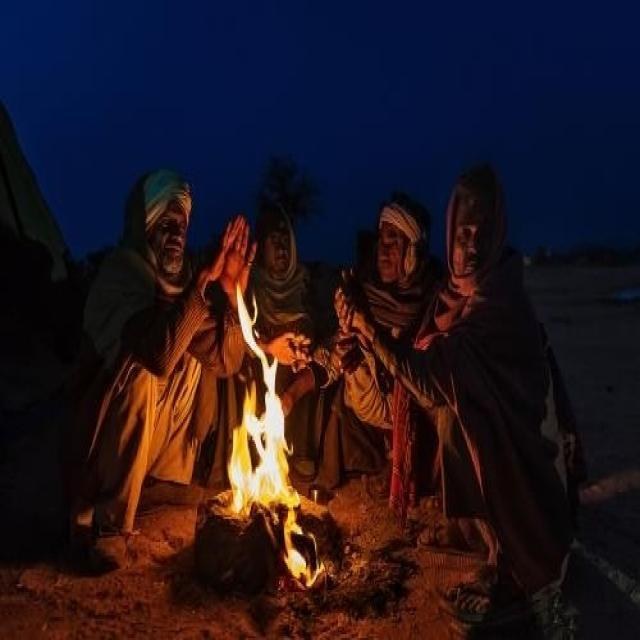Fire: (225, 280, 325, 592)
